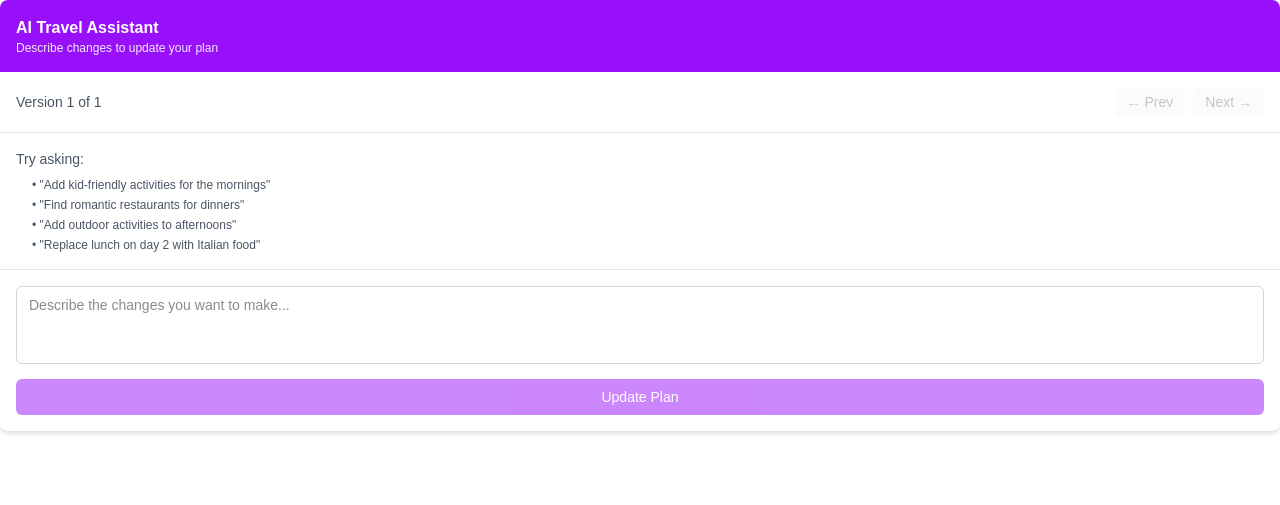
Test: PlanModifier › shows error message when modification fails
In the text box with placeholder "Describe the changes you want to make...": (640, 325) [16,286,1264,364], type "Add activities"
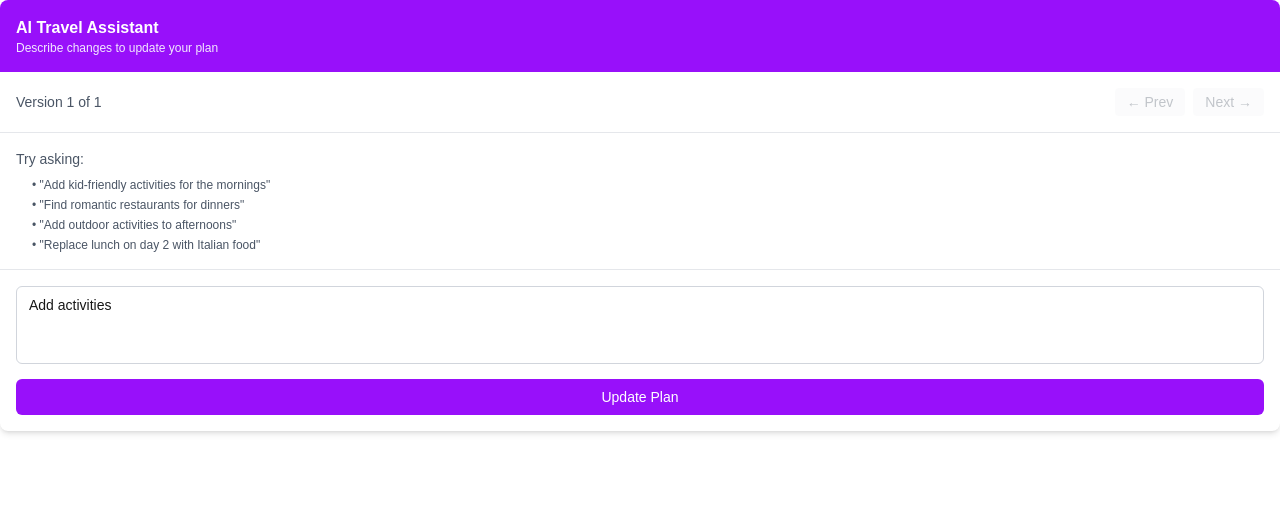
Click the button "Update Plan": (640, 397) [16,379,1264,415]
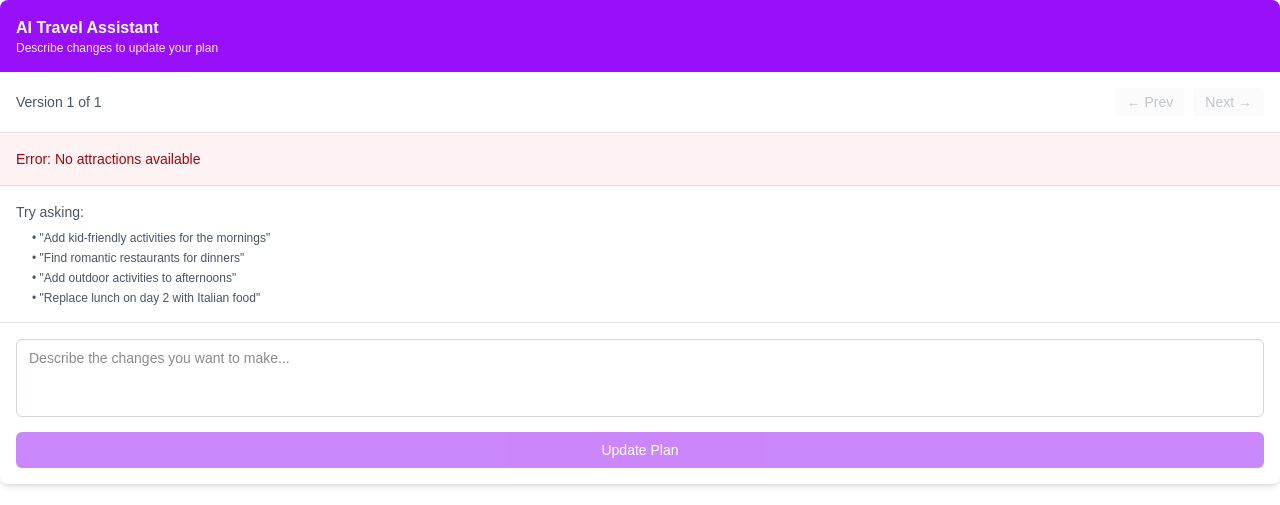
Expected: the text "Error: No attractions available" is shown, [16,151,200,167]
